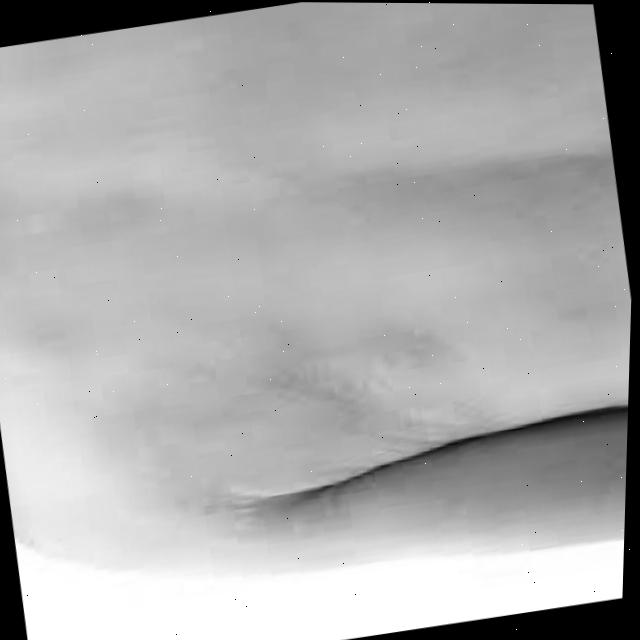Eczema: (70, 292, 454, 551)
